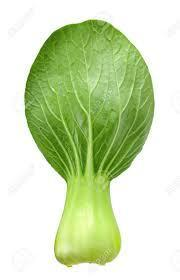Healthy-Pechay: (26, 20, 157, 268)
